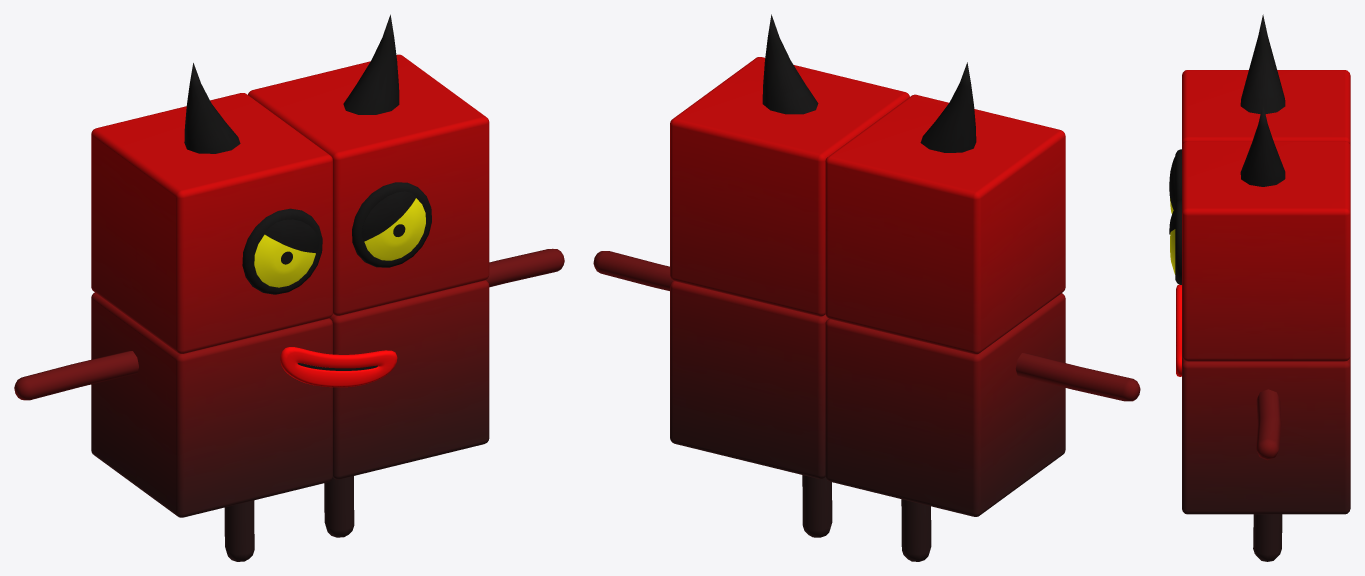
The model's file is mons4.fbx.
3 views of the same model, side by side, from view 1: azimuth 30°, elevation 25°; view 2: azimuth 150°, elevation 25°; view 3: azimuth 270°, elevation 25° (orthographic). The views are drawn at different scales.
Parts seen in each view (by area): view 1: mons4; view 2: mons4; view 3: mons4.
Part boxes in pixels (box(x1,y1,x2,y2)): mons4: box(14, 14, 564, 561); mons4: box(593, 14, 1140, 561); mons4: box(1169, 14, 1350, 561).
Size of the model in its own units: 349 by 313 by 107.
1 material, 1 textured.
